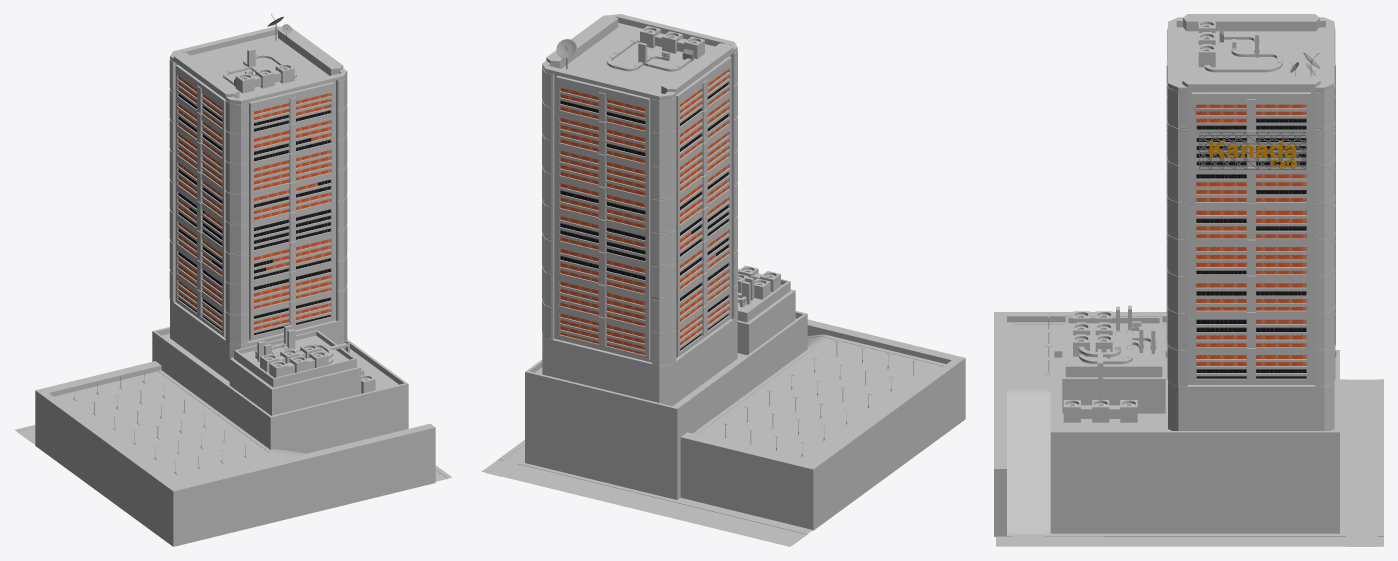
The model's file is Kanada_Cafe_Shopping_Center.fbx.
The picture shows the model from 3 angles, left to right: view 1: azimuth 30°, elevation 25°; view 2: azimuth 150°, elevation 25°; view 3: azimuth 270°, elevation 25°; orthographic projection. The views are drawn at different scales.
Parts seen in each view (by area): view 1: Street_Light_And_Barrier8_pCube232; view 2: Street_Light_And_Barrier8_pCube232; view 3: Street_Light_And_Barrier8_pCube232.
Part boxes in pixels (x1=…): Street_Light_And_Barrier8_pCube232: x1=14, y1=14, x2=452, y2=546; Street_Light_And_Barrier8_pCube232: x1=481, y1=14, x2=965, y2=546; Street_Light_And_Barrier8_pCube232: x1=994, y1=14, x2=1383, y2=546.
Size of the model in its own units: 176 by 229 by 173.
